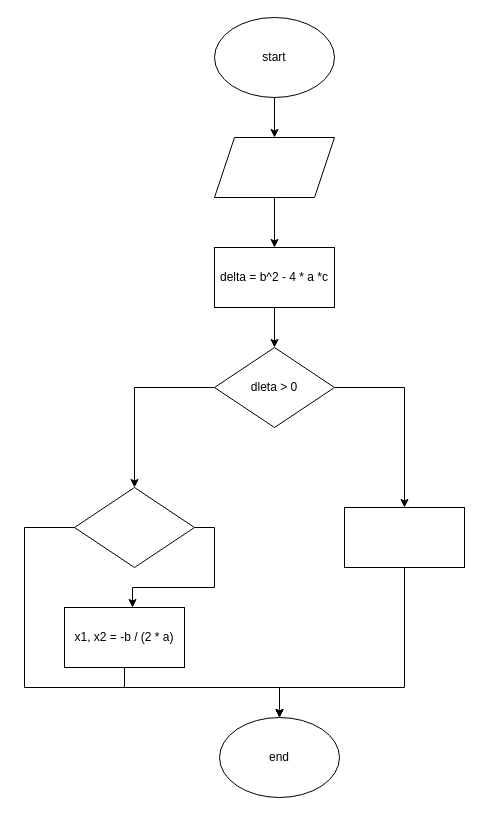
The diagram is 482 pixels wide and 815 high, and some of its shapes have lost their labels. The centre of each missing label's shape, as x and y in pixels:
"dleta = 0" belongs at pixel 134 527.
"input a, b, c" belongs at pixel 274 167.
"x1, x2 = (-b ± sqrt(delta)) / 2 * a" belongs at pixel 404 537.
